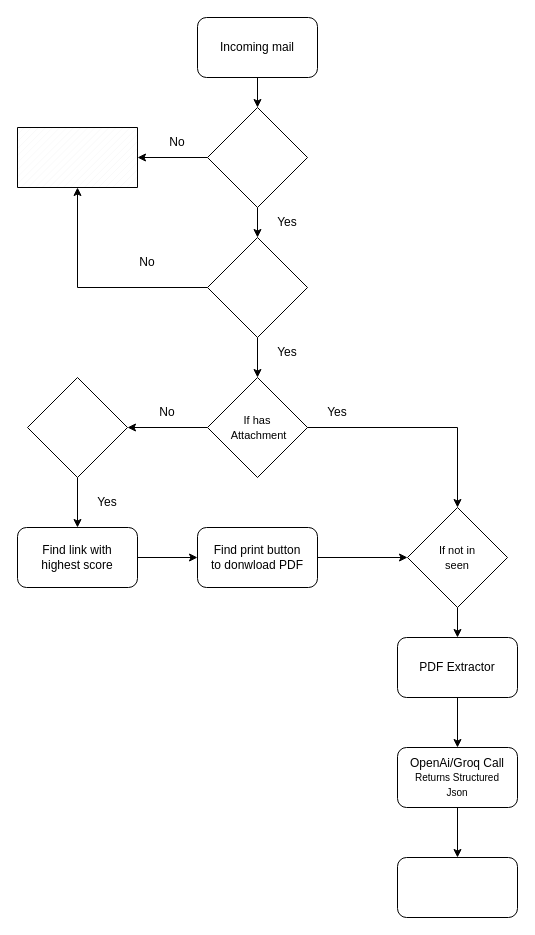
Some shapes in this 535 by 935 pixel diagram are drawn without their labels. The box of each missing label's shape, as (x1, y1, x2, y2) in pixels:
Create Folder for each email with pdf extracted and JSON: (396, 856, 518, 918)
If has Link: (26, 376, 128, 478)
If sender on the list: (206, 106, 308, 208)
If Subject Invoice: (206, 236, 308, 338)
